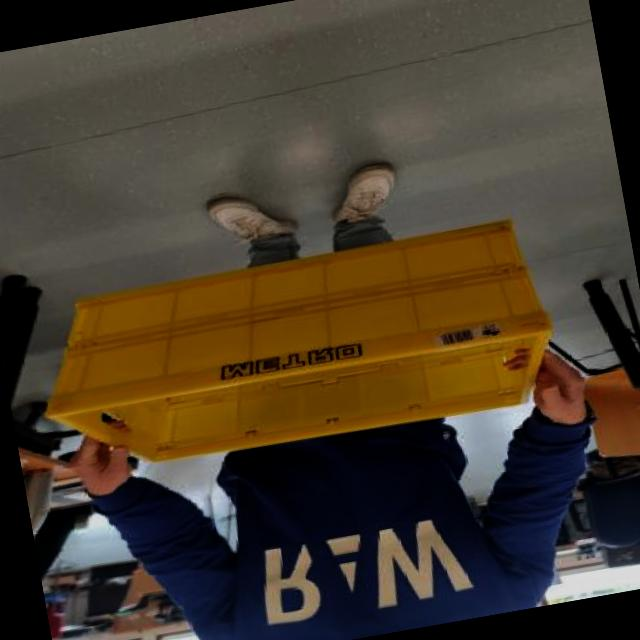box: (16, 190, 582, 489)
